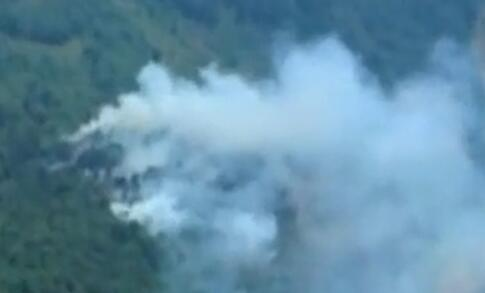smoke: (76, 33, 484, 293)
